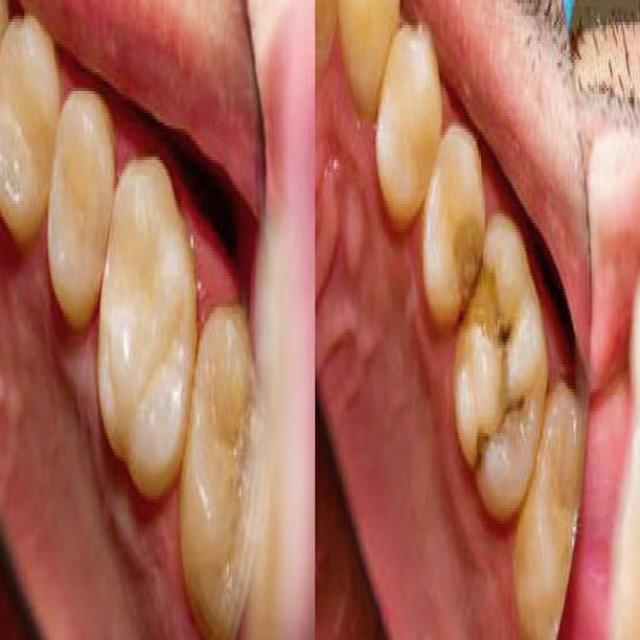caries: (448, 194, 502, 354), (468, 372, 528, 483), (490, 288, 522, 364)
